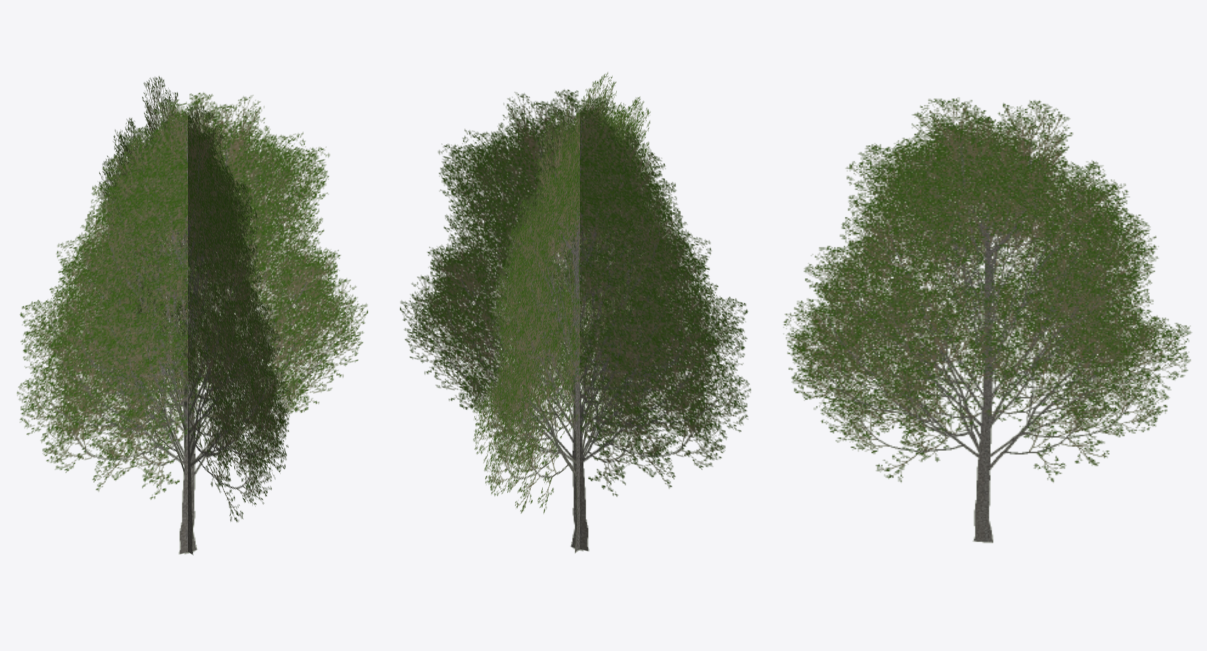
The model's file is FraxinusAmericana.glb.
3 views of the same model, side by side, from view 1: azimuth 30°, elevation 25°; view 2: azimuth 150°, elevation 25°; view 3: azimuth 270°, elevation 25° (orthographic). The views are drawn at different scales.
Visible parts, largest first — view 1: mesh__mat_billboard_5; view 2: mesh__mat_billboard_5; view 3: mesh__mat_billboard_5.
Part boxes in pixels (left/top/right/bottom): mesh__mat_billboard_5: left=17, top=76, right=367, bottom=554; mesh__mat_billboard_5: left=400, top=72, right=750, bottom=553; mesh__mat_billboard_5: left=783, top=97, right=1191, bottom=542.
Size of the model in its own units: 20.71 by 26.07 by 21.35.
1 material, 1 textured.
